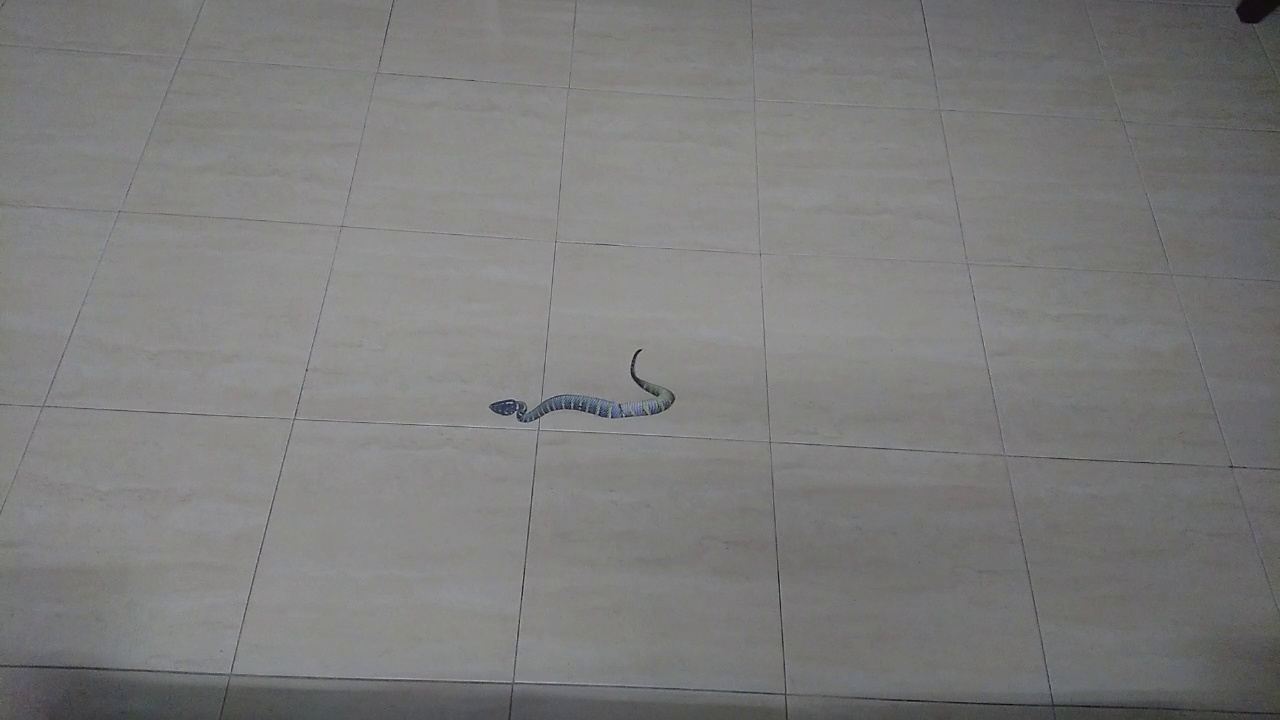snake: (477, 336, 687, 437)
